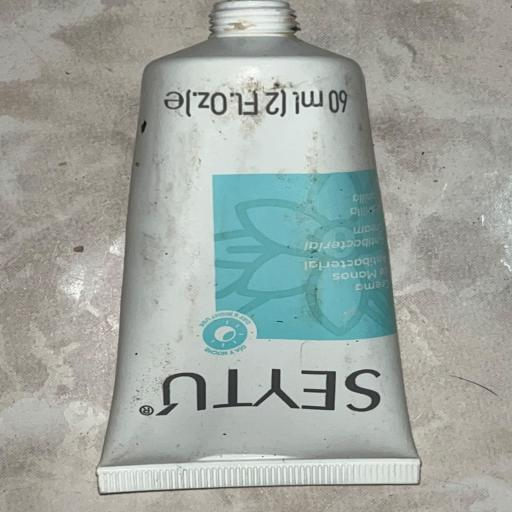HDPE: (63, 10, 479, 472)
